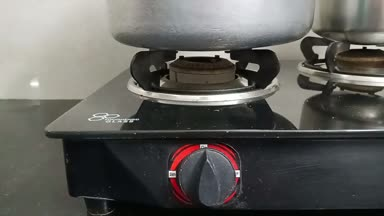noflame_gason: (118, 44, 296, 213)
